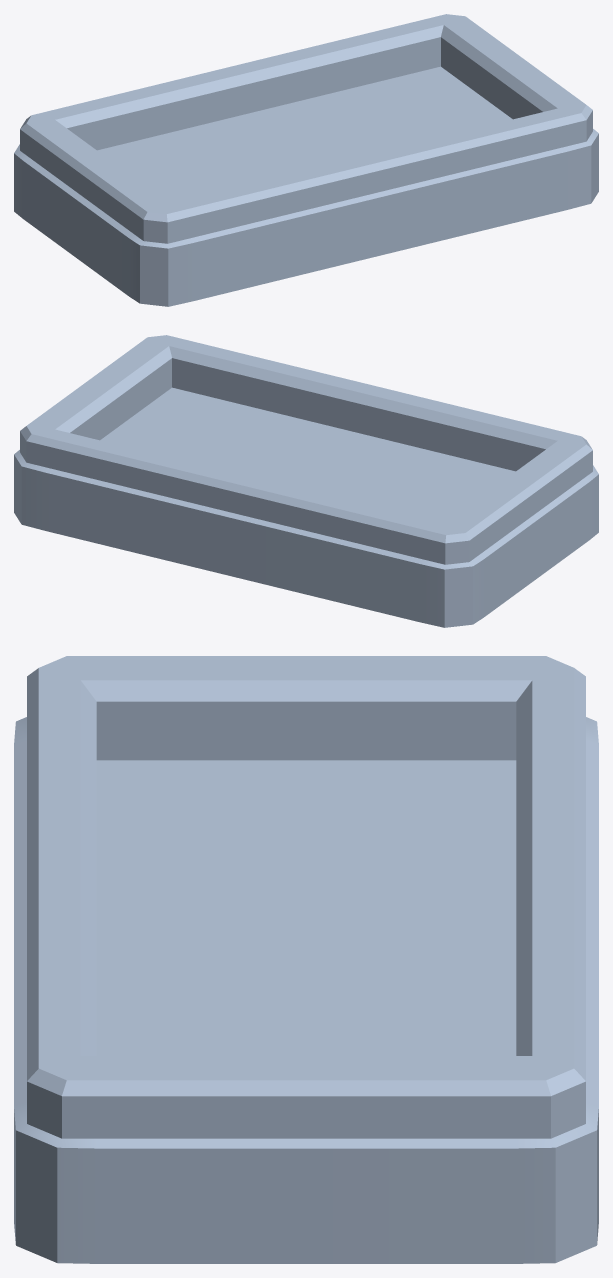
The model's file is RawFishPond.fbx.
3 renders of one model, top to bottom at view 1: azimuth 30°, elevation 25°; view 2: azimuth 150°, elevation 25°; view 3: azimuth 270°, elevation 25°, orthographic. The views are drawn at different scales.
Parts seen in each view (by area): view 1: FishPond; view 2: FishPond; view 3: FishPond.
Part boxes in pixels (x1,y1,x2,y2): FishPond: [14, 14, 598, 306]; FishPond: [14, 335, 598, 627]; FishPond: [14, 656, 598, 1263].
Size of the model in its own units: 1.99 by 0.3609 by 1.11.
